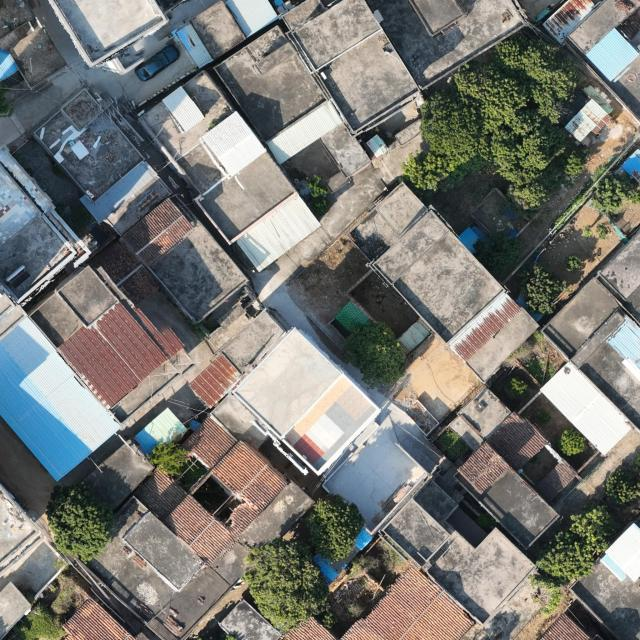Tree: (242, 537, 332, 633), (399, 90, 481, 192), (486, 108, 565, 209), (494, 41, 578, 124), (453, 61, 530, 136), (45, 482, 115, 560), (342, 318, 406, 390), (534, 530, 616, 584), (304, 492, 365, 560), (525, 262, 572, 315), (568, 504, 614, 543), (147, 441, 190, 473), (604, 468, 640, 504), (592, 178, 625, 212), (556, 427, 587, 456), (564, 154, 584, 177), (563, 254, 584, 271), (510, 378, 528, 395)
